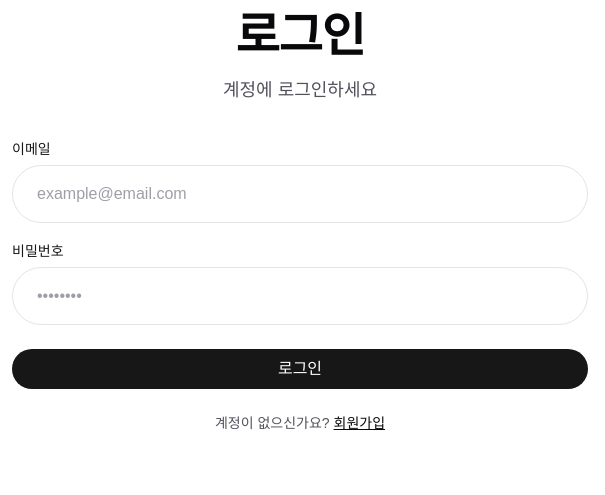
Test: LoginForm › Password Validation › should show error for password shorter than 8 characters
# Enter short password (7 characters)
Type "pass123" into the password field labelled "비밀번호" at (300, 296), box x1=12 y1=267 x2=588 y2=325
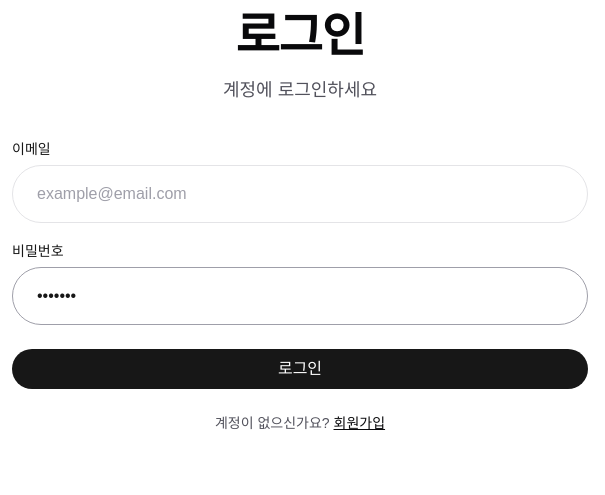
Click the button "로그인" at (300, 369), box x1=12 y1=349 x2=588 y2=389
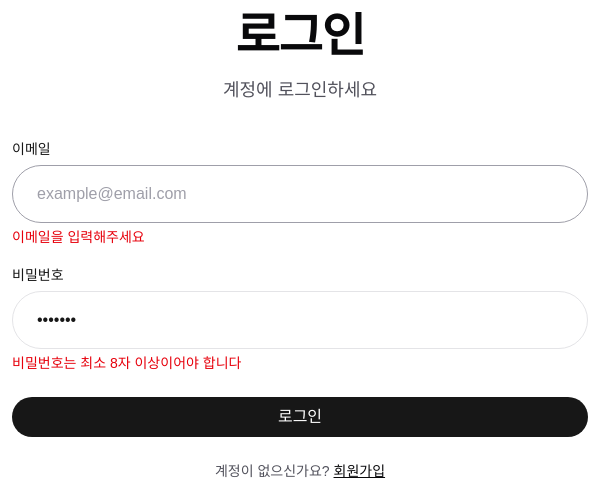
Check: the text "비밀번호는 최소 8자 이상이어야 합니다" is shown, box x1=12 y1=355 x2=241 y2=371
